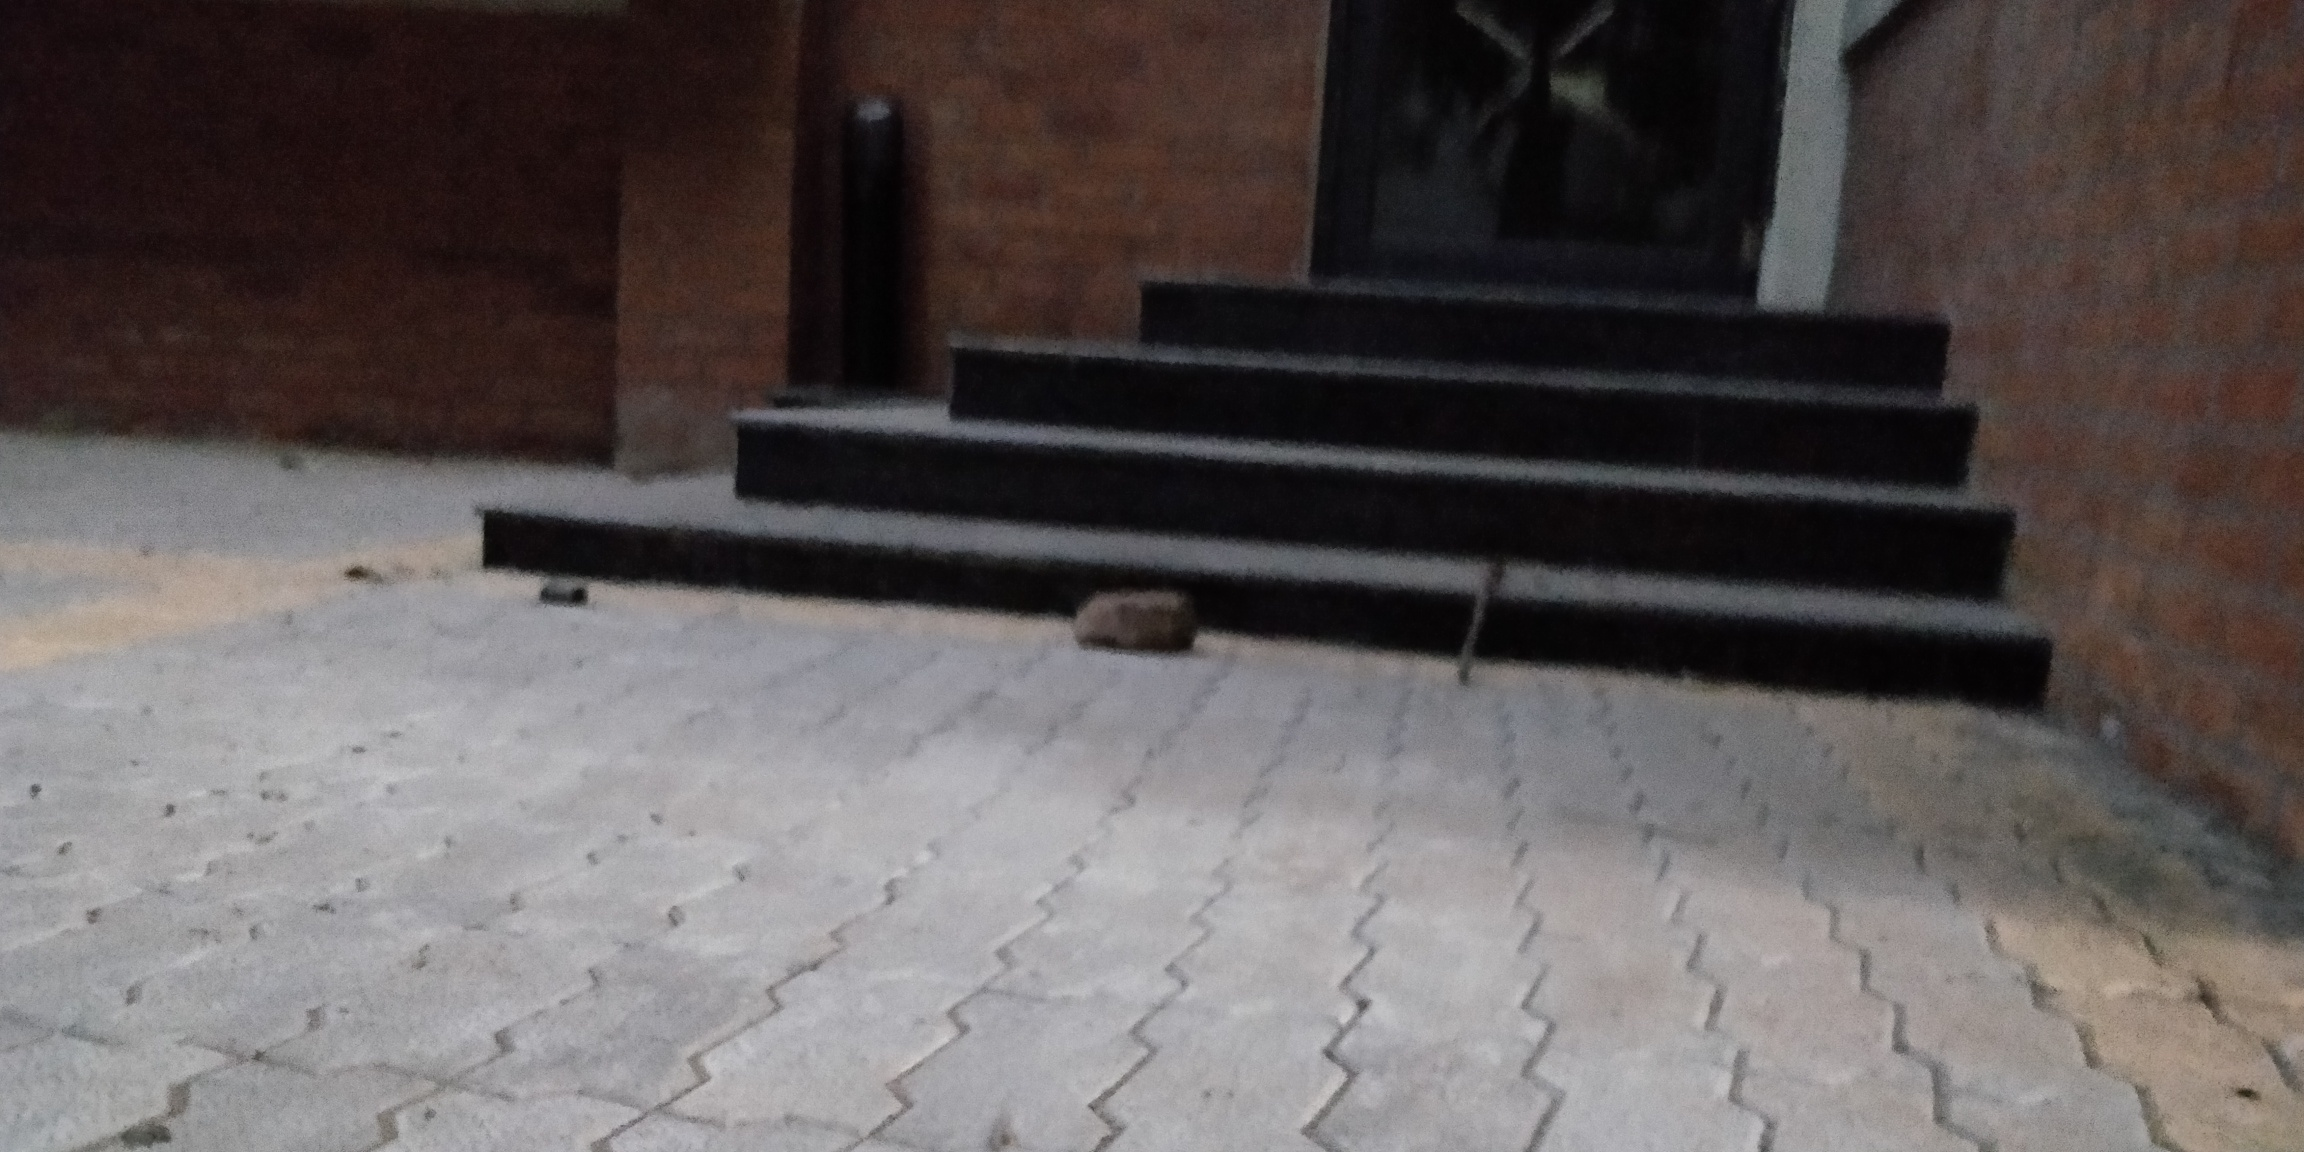stairs_up: (464, 303, 1994, 591)
